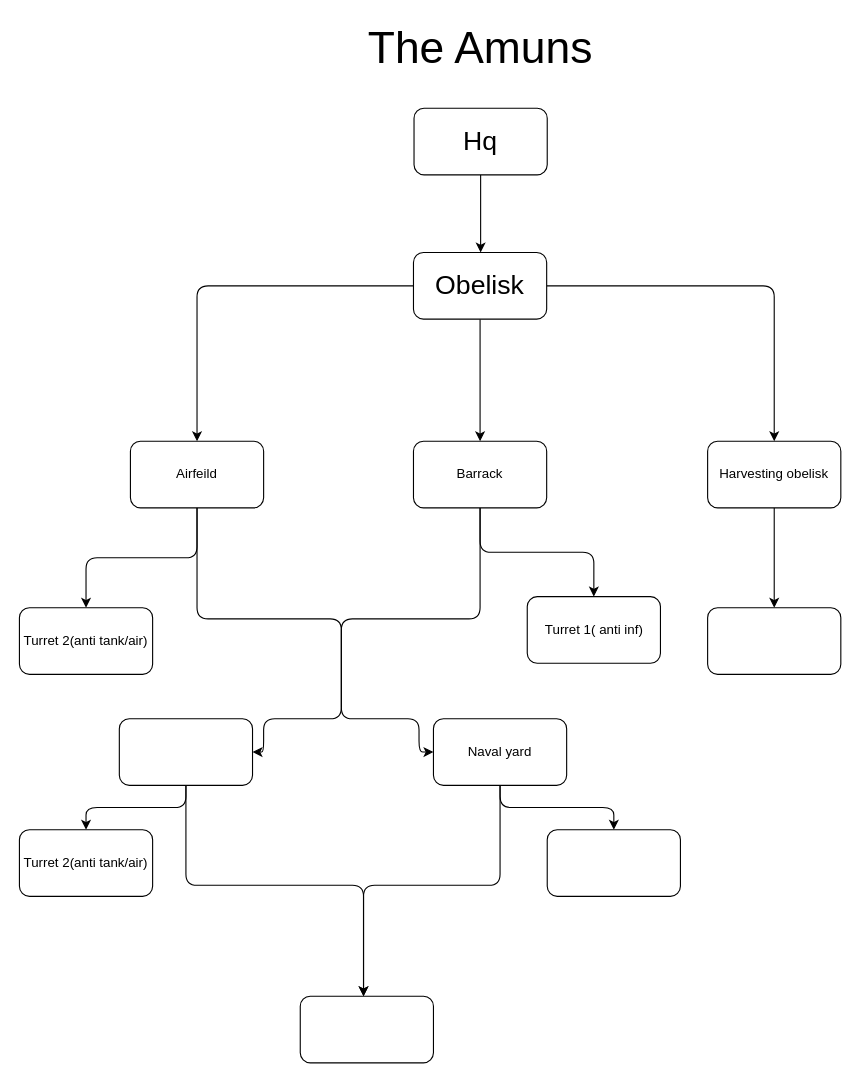
This 860x1082 diagram has some shape labels left out. The centre of each missing label's shape, as x and y in pixels:
Altars: (774,640)
Factory: (185,751)
impowered obelisk(t2): (366,1029)
Turret 3 ( navy): (613,862)
